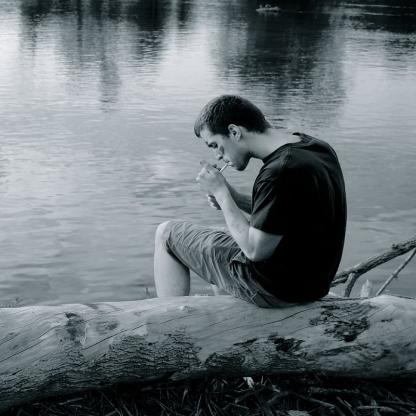smoking: (214, 162, 231, 176)
